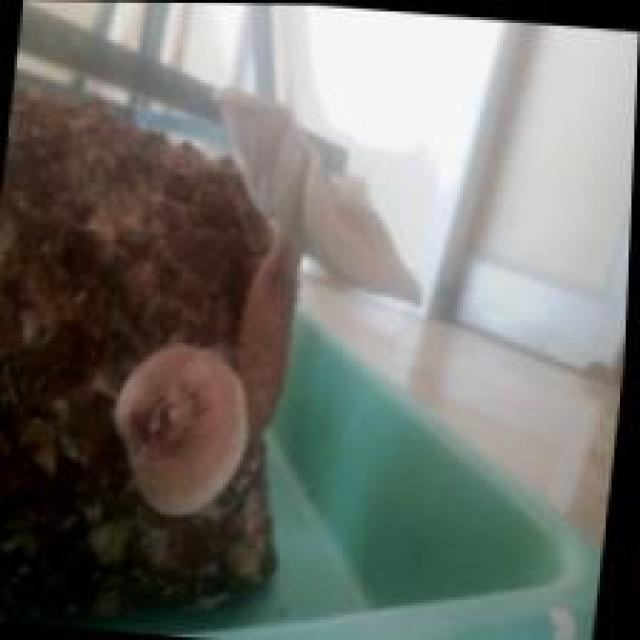chanterelle: (0, 83, 300, 623)
